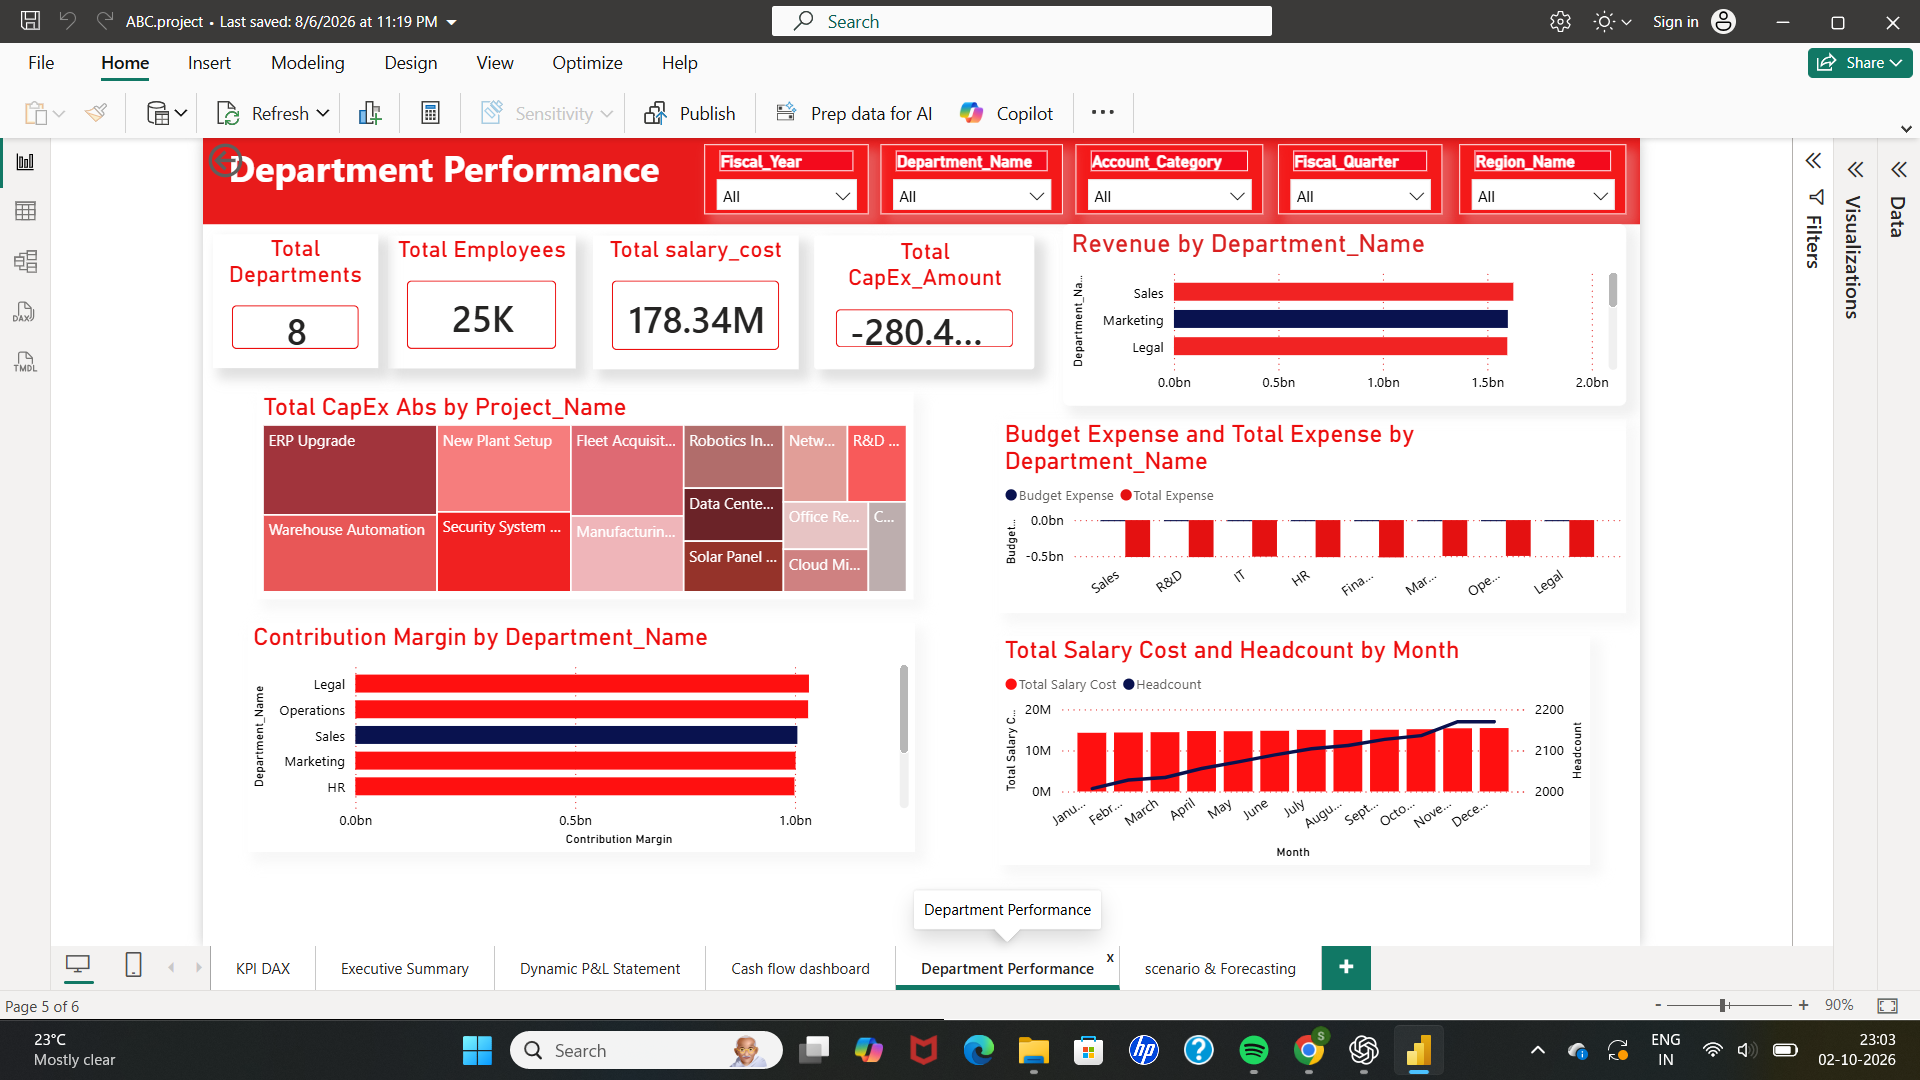

The page's visual inventory and layout, read from the dashboard file:
{"tool":"powerbi","page":{"name":"Department Performance","canvas":[1280,720],"ordinal":4},"visuals":[{"type":"textbox","box":[0,0,1280.3,77],"z":0},{"type":"cardVisual","title":"Total Employees","fields":{"Data":["Sum(Fact_Headcount.Employee_Count)"]},"box":[165.3,86.9,167.5,118.6],"z":1000},{"type":"cardVisual","title":"Total Departments","fields":{"Data":["CountNonNull(Dim_Department.Department_ID)"]},"box":[8.4,85.7,147.2,119.4],"z":2000},{"type":"cardVisual","title":"Total salary_cost","fields":{"Data":["Sum(Fact_Headcount.Salary_Cost)"]},"box":[347.5,86.9,183.4,119.4],"z":3000},{"type":"cardVisual","title":"Total CapEx_Amount","fields":{"Data":["Sum(Fact_CapEx.CapEx_Amount)"]},"box":[544.8,86.4,196.2,119.4],"z":4000},{"type":"slicer","fields":{"Values":["Dim_Date.Fiscal_Quarter"]},"box":[957.5,6.1,146.7,62.4],"z":5000},{"type":"slicer","fields":{"Values":["Dim_Account.Account_Category"]},"box":[776.5,6.1,167.5,62.4],"z":6000},{"type":"slicer","fields":{"Values":["Dim_Department.Department_Name"]},"box":[602.9,6.1,162.6,62.4],"z":7000},{"type":"slicer","fields":{"Values":["Dim_Date.Fiscal_Year"]},"box":[446.3,6.1,146.7,62.4],"z":8000},{"type":"slicer","fields":{"Values":["Dim_Region.Region_Name"]},"box":[1118.9,6.1,149.2,62.4],"z":9000},{"type":"actionButton","box":[0,0,100,40],"z":10000},{"type":"barChart","fields":{"Category":["Dim_Department.Department_Name"],"Y":["KPI DAX.Revenue"]},"box":[766.1,77.2,501.9,161.7],"z":11000},{"type":"lineStackedColumnComboChart","fields":{"Category":["Dim_Date.Date.Variation.Date Hierarchy.Month"],"Y":["KPI DAX.Total Salary Cost"],"Y2":["KPI DAX.Headcount"]},"box":[709.4,442.8,526,203.9],"z":12000},{"type":"treemap","fields":{"Group":["Fact_CapEx.Project_Name"],"Values":["KPI DAX.Total CapEx Abs"]},"box":[48.3,225.6,585.1,184.6],"z":13000},{"type":"clusteredColumnChart","fields":{"Category":["Dim_Department.Department_Name"],"Y":["KPI DAX.Budget Expense","KPI DAX.Total Expense"]},"box":[709.4,250.9,558.6,172.5],"z":14000},{"type":"barChart","fields":{"Category":["Dim_Department.Department_Name"],"Y":["KPI DAX.Contribution Margin"]},"box":[39.8,431.9,593.6,203.9],"z":15000}]}

Visuals, with their boxes on the page's 1280x720 design canvas (x1, y1, x2, y2). These are canvas units, not pixel positions in the 1920x1080 screenshot, which may show the page scaled, cropped or inside an application window:
textbox: select_region(0, 0, 1280, 77)
"Total Employees" cardVisual: select_region(165, 87, 333, 206)
"Total Departments" cardVisual: select_region(8, 86, 156, 205)
"Total salary_cost" cardVisual: select_region(348, 87, 531, 206)
"Total CapEx_Amount" cardVisual: select_region(545, 86, 741, 206)
slicer - Dim_Date.Fiscal_Quarter: select_region(958, 6, 1104, 68)
slicer - Dim_Account.Account_Category: select_region(776, 6, 944, 68)
slicer - Dim_Department.Department_Name: select_region(603, 6, 766, 68)
slicer - Dim_Date.Fiscal_Year: select_region(446, 6, 593, 68)
slicer - Dim_Region.Region_Name: select_region(1119, 6, 1268, 68)
actionButton: select_region(0, 0, 100, 40)
barChart - Dim_Department.Department_Name x KPI DAX.Revenue: select_region(766, 77, 1268, 239)
lineStackedColumnComboChart - Dim_Date.Date.Variation.Date Hierarchy.Month x KPI DAX.Total Salary Cost: select_region(709, 443, 1235, 647)
treemap - Fact_CapEx.Project_Name x KPI DAX.Total CapEx Abs: select_region(48, 226, 633, 410)
clusteredColumnChart - Dim_Department.Department_Name x KPI DAX.Budget Expense: select_region(709, 251, 1268, 423)
barChart - Dim_Department.Department_Name x KPI DAX.Contribution Margin: select_region(40, 432, 633, 636)
